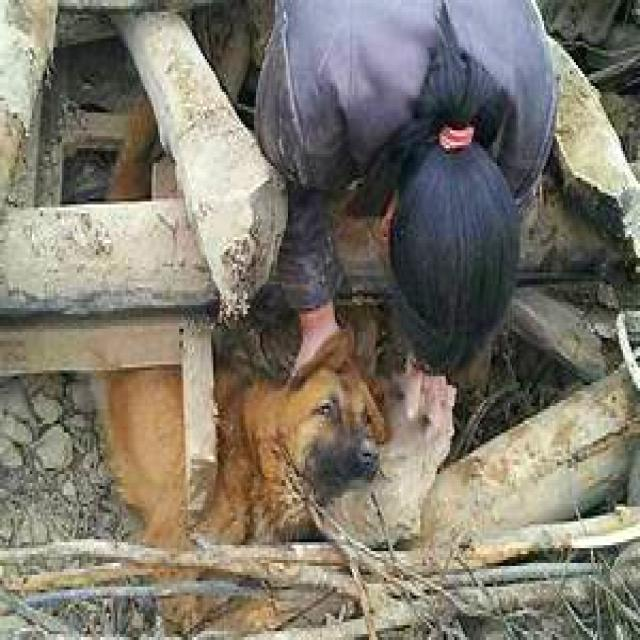KOPEK: (79, 360, 385, 632)
